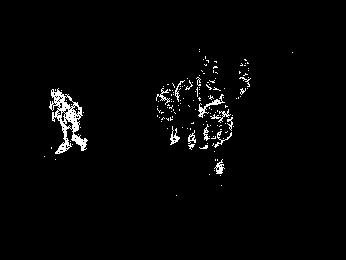person: (45, 85, 88, 157), (204, 89, 234, 177), (176, 77, 200, 154), (155, 82, 180, 150)
